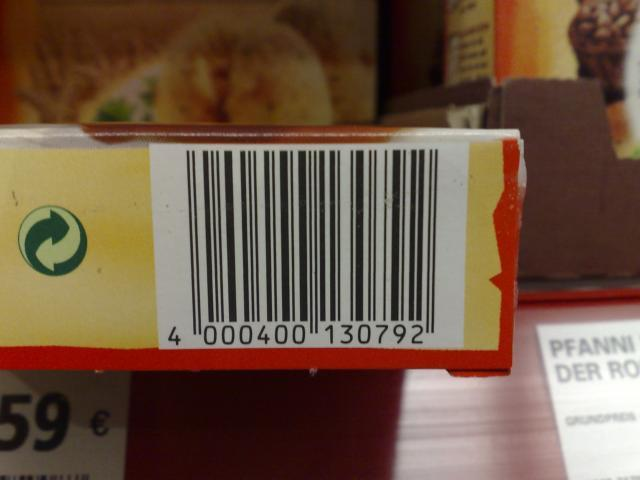Barcode: (162, 143, 454, 352)
